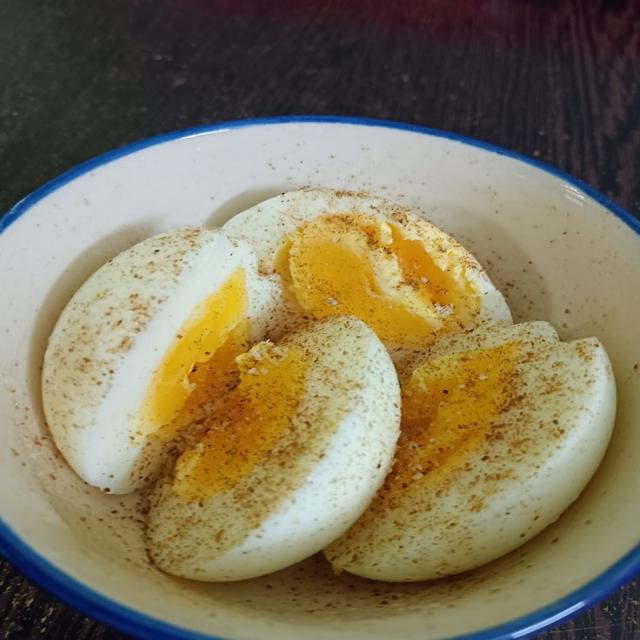egg boiled: (325, 323, 615, 581), (147, 316, 399, 581), (43, 229, 280, 493), (224, 188, 511, 362)
